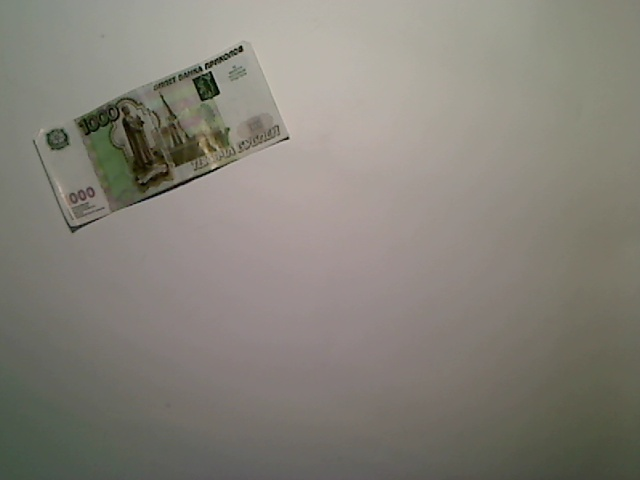banknotes: (31, 33, 298, 233)
